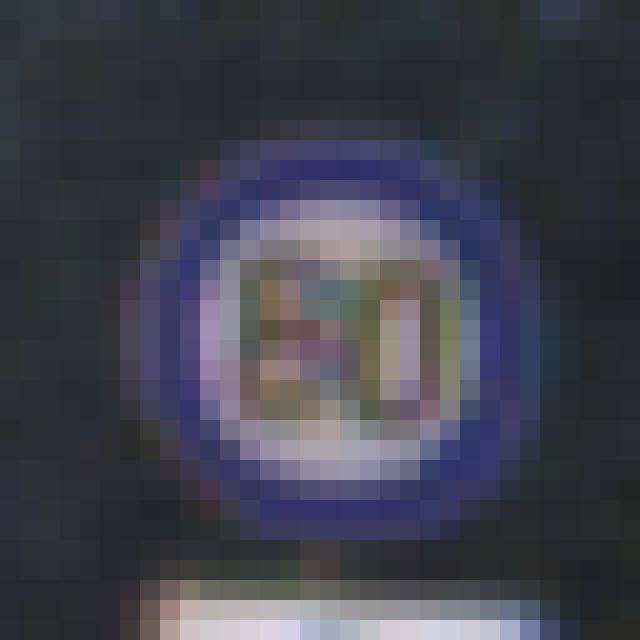SPEED-LIMIT-80: (127, 138, 528, 534)
